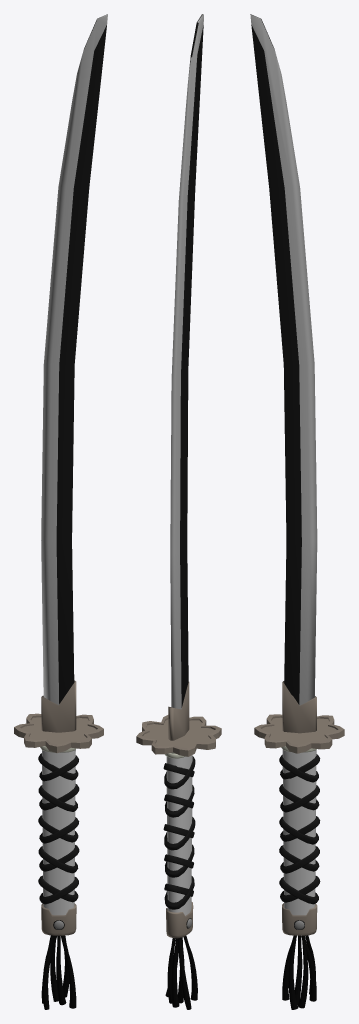
The picture shows the model from 3 angles, left to right: view 1: azimuth 90°, elevation 25°; view 2: azimuth 150°, elevation 25°; view 3: azimuth 270°, elevation 25°; orthographic projection.
Parts seen in each view (by area): view 1: Cube.170; view 2: Cube.170; view 3: Cube.170.
Part boxes in pixels (box(x1,y1,x2,y2)): Cube.170: box(14, 14, 107, 1009); Cube.170: box(136, 14, 221, 1009); Cube.170: box(250, 14, 344, 1009).
Size of the model in its own units: 38.94 by 479 by 41.23.
